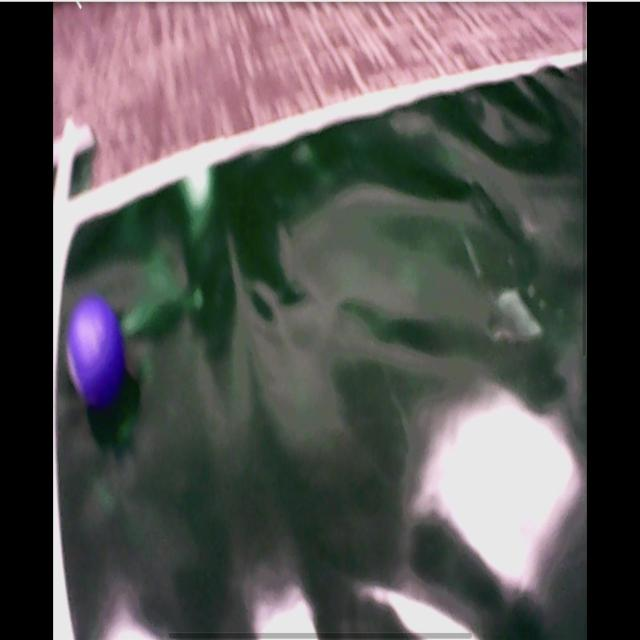ball: (67, 295, 125, 403)
